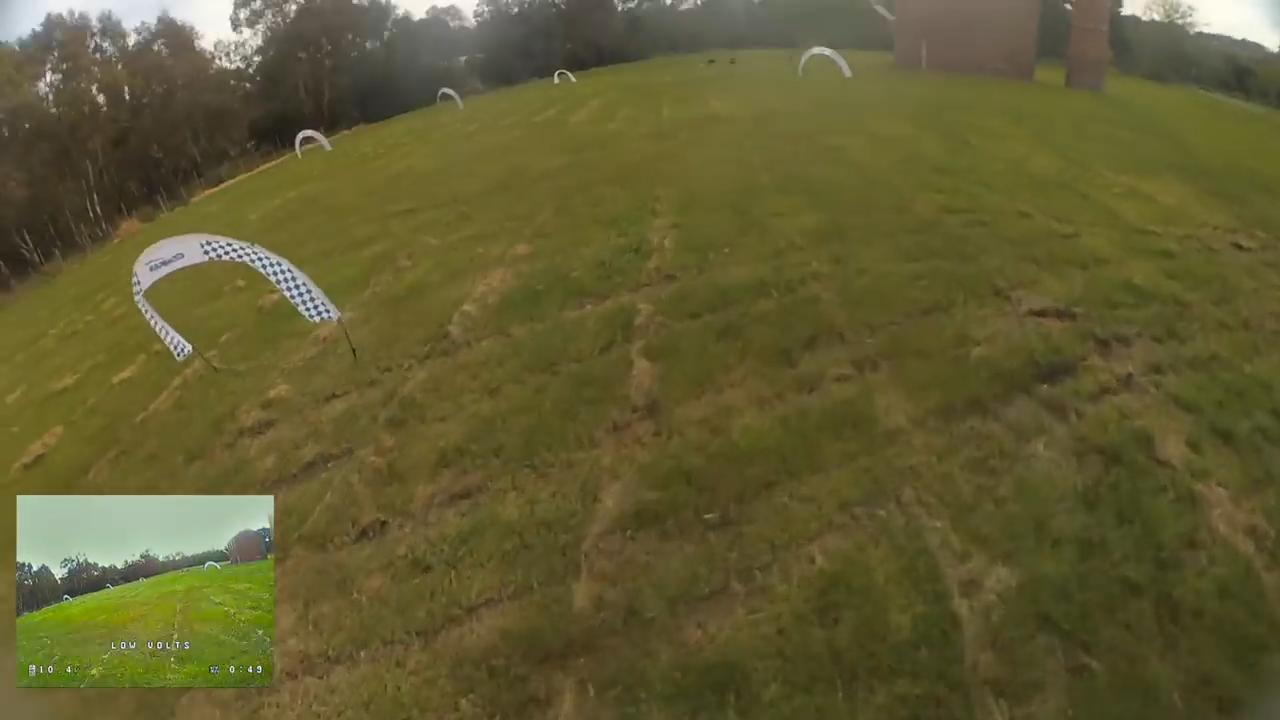gate: (126, 234, 350, 360), (794, 47, 854, 84), (294, 129, 331, 158), (434, 88, 466, 110), (553, 69, 578, 86)
